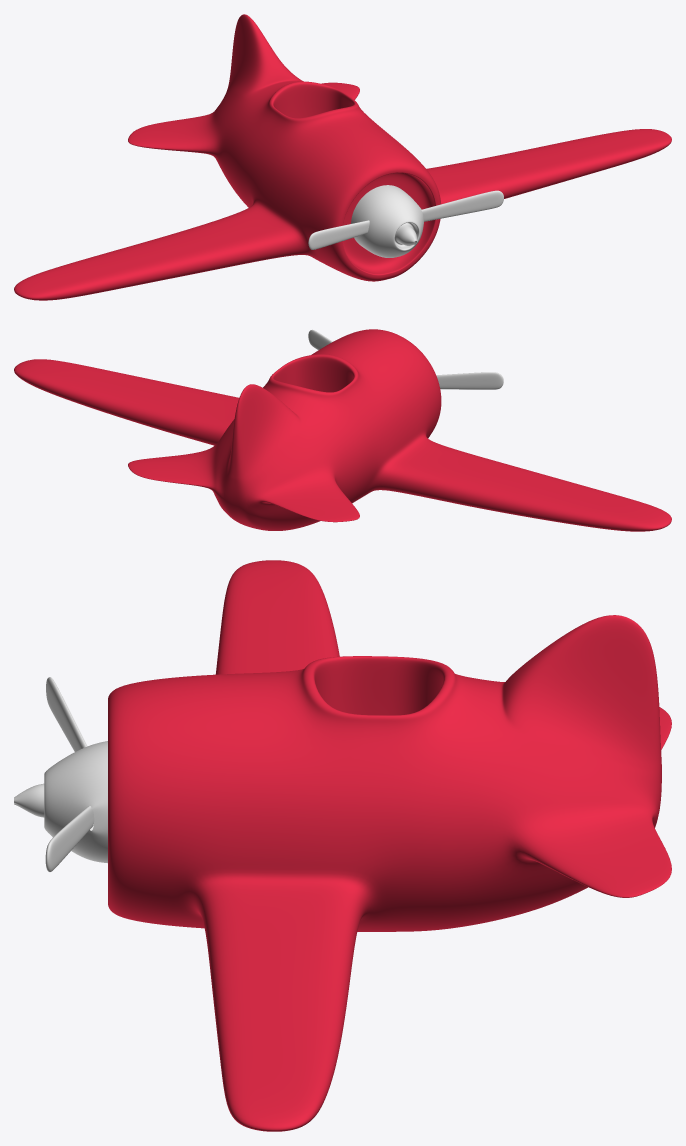
Rendered from toy_plane.glb.
3 renders of one model, top to bottom at view 1: azimuth 30°, elevation 25°; view 2: azimuth 150°, elevation 25°; view 3: azimuth 270°, elevation 25°, orthographic. The views are drawn at different scales.
Parts seen in each view (by area): view 1: base, rotator; view 2: base, rotator; view 3: base, rotator.
Boxes of the visible parts, left/top/right/bottom form: base: left=14, top=14, right=671, bottom=300; rotator: left=308, top=185, right=503, bottom=257; base: left=14, top=329, right=671, bottom=531; rotator: left=308, top=329, right=503, bottom=389; base: left=108, top=560, right=671, bottom=1131; rotator: left=14, top=677, right=107, bottom=871.
Size of the model in its own units: 9.72 by 2.43 by 4.75.
